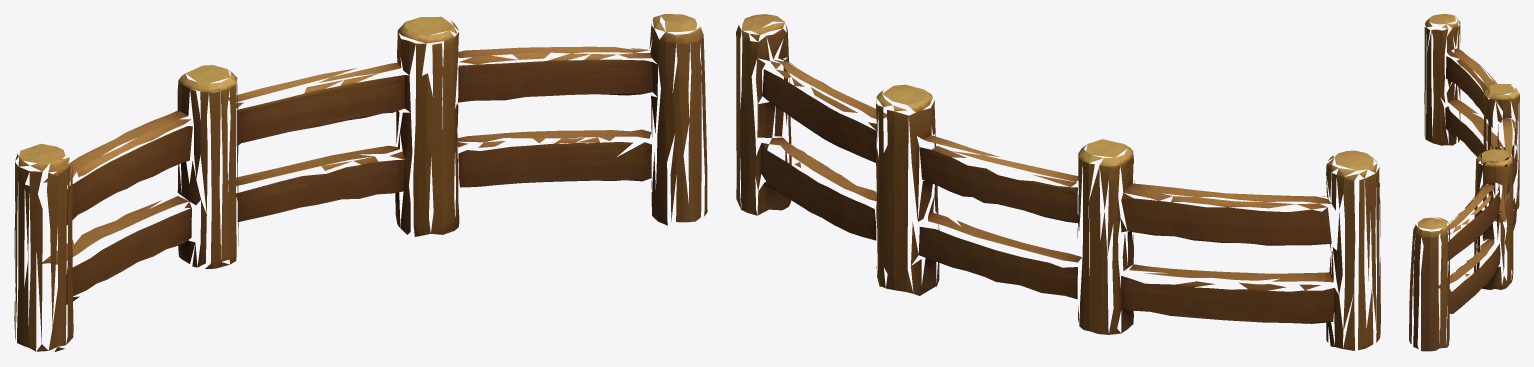
File: fencing.glb
3 renders of one model, left to right at view 1: azimuth 30°, elevation 25°; view 2: azimuth 150°, elevation 25°; view 3: azimuth 270°, elevation 25°, orthographic. The views are drawn at different scales.
Parts seen in each view (by area): view 1: world; view 2: world; view 3: world.
Boxes of the visible parts, bbox=[...] form: world: bbox=[14, 14, 707, 351]; world: bbox=[736, 14, 1380, 350]; world: bbox=[1409, 14, 1519, 351].
Size of the model in its own units: 1 by 0.2965 by 0.2232.
1 material, 1 textured.
